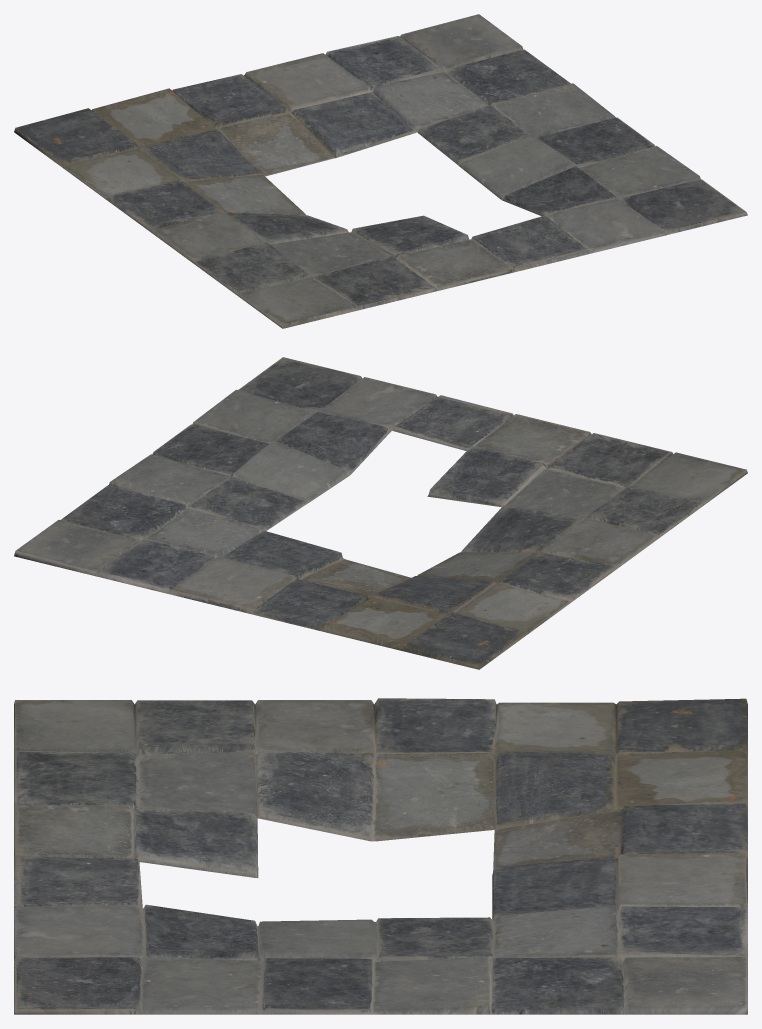
Rendered from sm_Floor_01_03.fbx.
3 views of the same model, one above another, from view 1: azimuth 30°, elevation 25°; view 2: azimuth 150°, elevation 25°; view 3: azimuth 270°, elevation 25° (orthographic). The views are drawn at different scales.
Parts seen in each view (by area): view 1: sm_Floor_01_03_LOD0; view 2: sm_Floor_01_03_LOD0; view 3: sm_Floor_01_03_LOD0.
Part boxes in pixels (left/top/right/bottom): sm_Floor_01_03_LOD0: left=14, top=14, right=747, bottom=328; sm_Floor_01_03_LOD0: left=14, top=357, right=747, bottom=669; sm_Floor_01_03_LOD0: left=14, top=698, right=747, bottom=1014.
Bounding box in the file's own units: 250 × 250 × 15.45.
